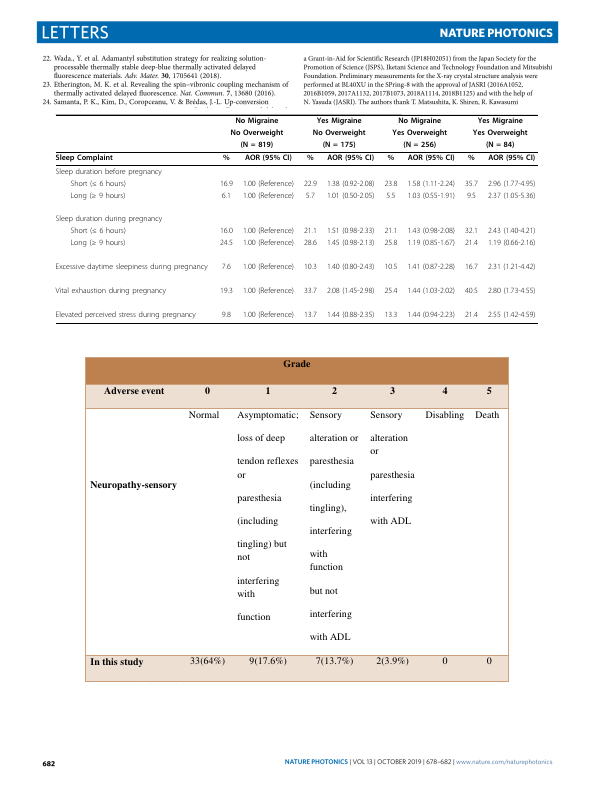bordered: (84, 356, 508, 681)
borderless: (55, 113, 538, 323)
cell: (236, 408, 300, 623), (309, 408, 359, 643), (369, 408, 416, 527), (55, 263, 209, 272), (55, 311, 197, 320), (89, 477, 178, 491), (55, 167, 163, 177), (55, 215, 163, 225), (55, 287, 167, 296), (103, 383, 165, 397), (89, 654, 145, 667), (69, 179, 127, 189), (69, 227, 127, 237), (69, 191, 126, 201), (69, 239, 126, 249), (55, 154, 114, 163), (242, 179, 295, 189), (242, 191, 295, 201), (242, 227, 295, 237), (242, 239, 295, 249), (425, 408, 465, 421), (248, 654, 288, 667), (391, 129, 448, 138), (315, 654, 354, 667), (472, 129, 528, 138), (406, 179, 456, 189), (406, 191, 456, 201), (406, 227, 456, 237), (406, 239, 456, 249), (326, 179, 375, 189), (487, 179, 536, 189), (326, 191, 375, 201), (487, 191, 536, 201), (326, 227, 375, 237), (487, 227, 536, 237), (326, 239, 375, 249), (487, 239, 536, 249), (230, 129, 284, 138), (312, 129, 366, 138), (189, 654, 226, 667), (242, 263, 295, 272), (242, 287, 295, 296), (242, 311, 295, 320), (375, 654, 410, 667), (406, 263, 456, 272), (406, 287, 456, 296), (406, 311, 456, 320), (244, 154, 293, 163), (326, 154, 375, 163), (487, 154, 536, 163), (326, 263, 375, 272), (487, 263, 536, 272), (326, 287, 375, 296), (487, 287, 536, 296), (326, 311, 375, 320), (487, 311, 536, 320), (407, 154, 455, 163), (316, 117, 363, 126), (477, 117, 524, 126), (188, 408, 220, 421), (282, 356, 311, 370), (234, 117, 279, 126), (397, 117, 442, 126), (474, 408, 500, 421), (239, 141, 274, 150), (402, 141, 437, 150), (322, 141, 356, 150), (485, 141, 515, 150), (219, 179, 234, 189), (303, 179, 318, 189), (383, 179, 398, 189), (464, 179, 479, 189), (219, 227, 234, 237), (303, 227, 318, 237), (383, 227, 398, 237), (464, 227, 479, 237), (219, 239, 234, 249), (303, 239, 318, 249), (383, 239, 398, 249), (464, 239, 479, 249), (303, 263, 318, 272), (383, 263, 398, 272), (464, 263, 479, 272), (219, 287, 234, 296), (303, 287, 318, 296), (383, 287, 398, 296), (464, 287, 479, 296), (303, 311, 318, 320), (383, 311, 398, 320), (464, 311, 479, 320), (221, 191, 232, 201), (305, 191, 316, 201), (385, 191, 396, 201), (466, 191, 477, 201), (221, 263, 232, 272), (221, 311, 232, 320), (204, 383, 211, 397), (265, 383, 272, 397), (331, 383, 338, 397), (389, 383, 396, 397), (441, 383, 448, 397), (486, 383, 493, 397), (441, 654, 448, 667), (486, 654, 493, 667), (222, 154, 231, 163), (306, 154, 315, 163), (386, 154, 395, 163), (467, 154, 476, 163)
